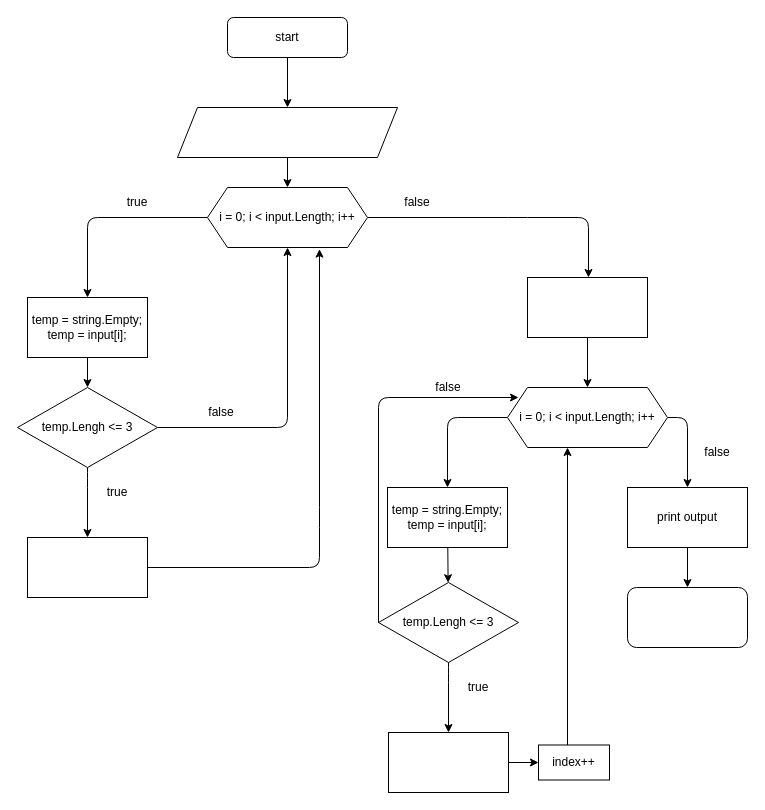
This 765x810 diagram has some shape labels left out. The shapes that lost their labels are listed below. From the top down, each one's box as (x1, y1, x2, y2) in pixels, then its label:
(176, 106, 398, 158): input[]; count = 0;
(526, 276, 648, 338): output[count] index = 0
(26, 536, 148, 598): count++
(626, 586, 748, 648): End
(388, 732, 508, 792): output[index] = temp
